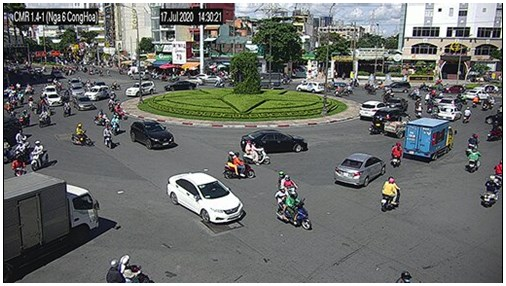xe_hoi: (166, 171, 243, 222), (334, 152, 386, 189), (240, 130, 307, 152), (129, 121, 175, 150), (359, 100, 389, 118), (376, 107, 411, 122), (125, 81, 156, 97), (85, 85, 110, 100), (438, 105, 460, 121), (73, 95, 96, 110), (163, 80, 196, 90), (296, 81, 325, 92), (385, 82, 411, 94), (44, 91, 63, 106), (387, 97, 408, 110), (472, 83, 499, 93), (443, 85, 465, 94), (70, 85, 84, 97), (44, 86, 59, 93), (68, 77, 82, 84)
xe_may: (275, 186, 311, 230), (106, 254, 155, 283), (225, 151, 255, 179), (380, 178, 400, 212), (244, 139, 270, 165), (481, 173, 498, 209), (31, 140, 50, 171), (279, 170, 297, 201), (72, 122, 92, 147), (368, 115, 387, 136), (14, 138, 30, 162), (488, 120, 503, 141), (92, 109, 110, 126), (465, 134, 478, 157), (468, 144, 478, 173), (391, 142, 402, 167), (12, 155, 25, 176), (103, 125, 113, 150), (40, 108, 51, 128), (62, 99, 72, 119), (115, 102, 126, 120), (18, 109, 30, 125), (111, 114, 119, 137), (414, 98, 422, 119), (334, 85, 348, 97), (462, 107, 472, 123), (482, 96, 491, 111), (23, 84, 35, 95), (110, 79, 121, 91), (472, 93, 480, 108), (109, 97, 116, 113), (214, 77, 225, 87)
xe_tai: (4, 172, 99, 281), (406, 117, 455, 162), (254, 72, 281, 88)
